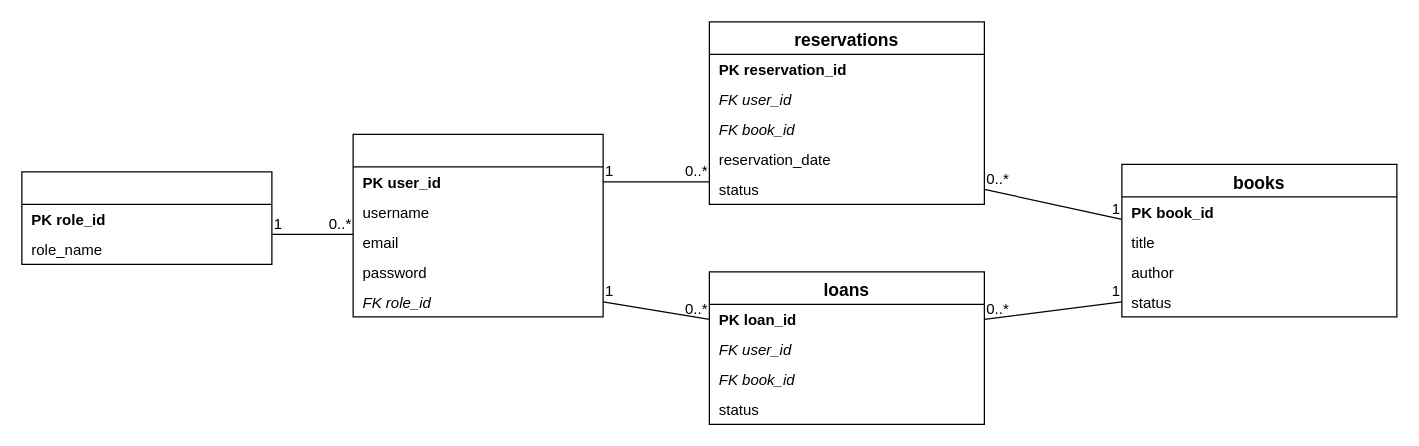
The diagram is 1419 pixels wide and 446 high, and some of its shapes have lost their labels. Each missing label, with the box of its shape:
roles: (21, 171, 272, 264)
users: (352, 133, 603, 317)
